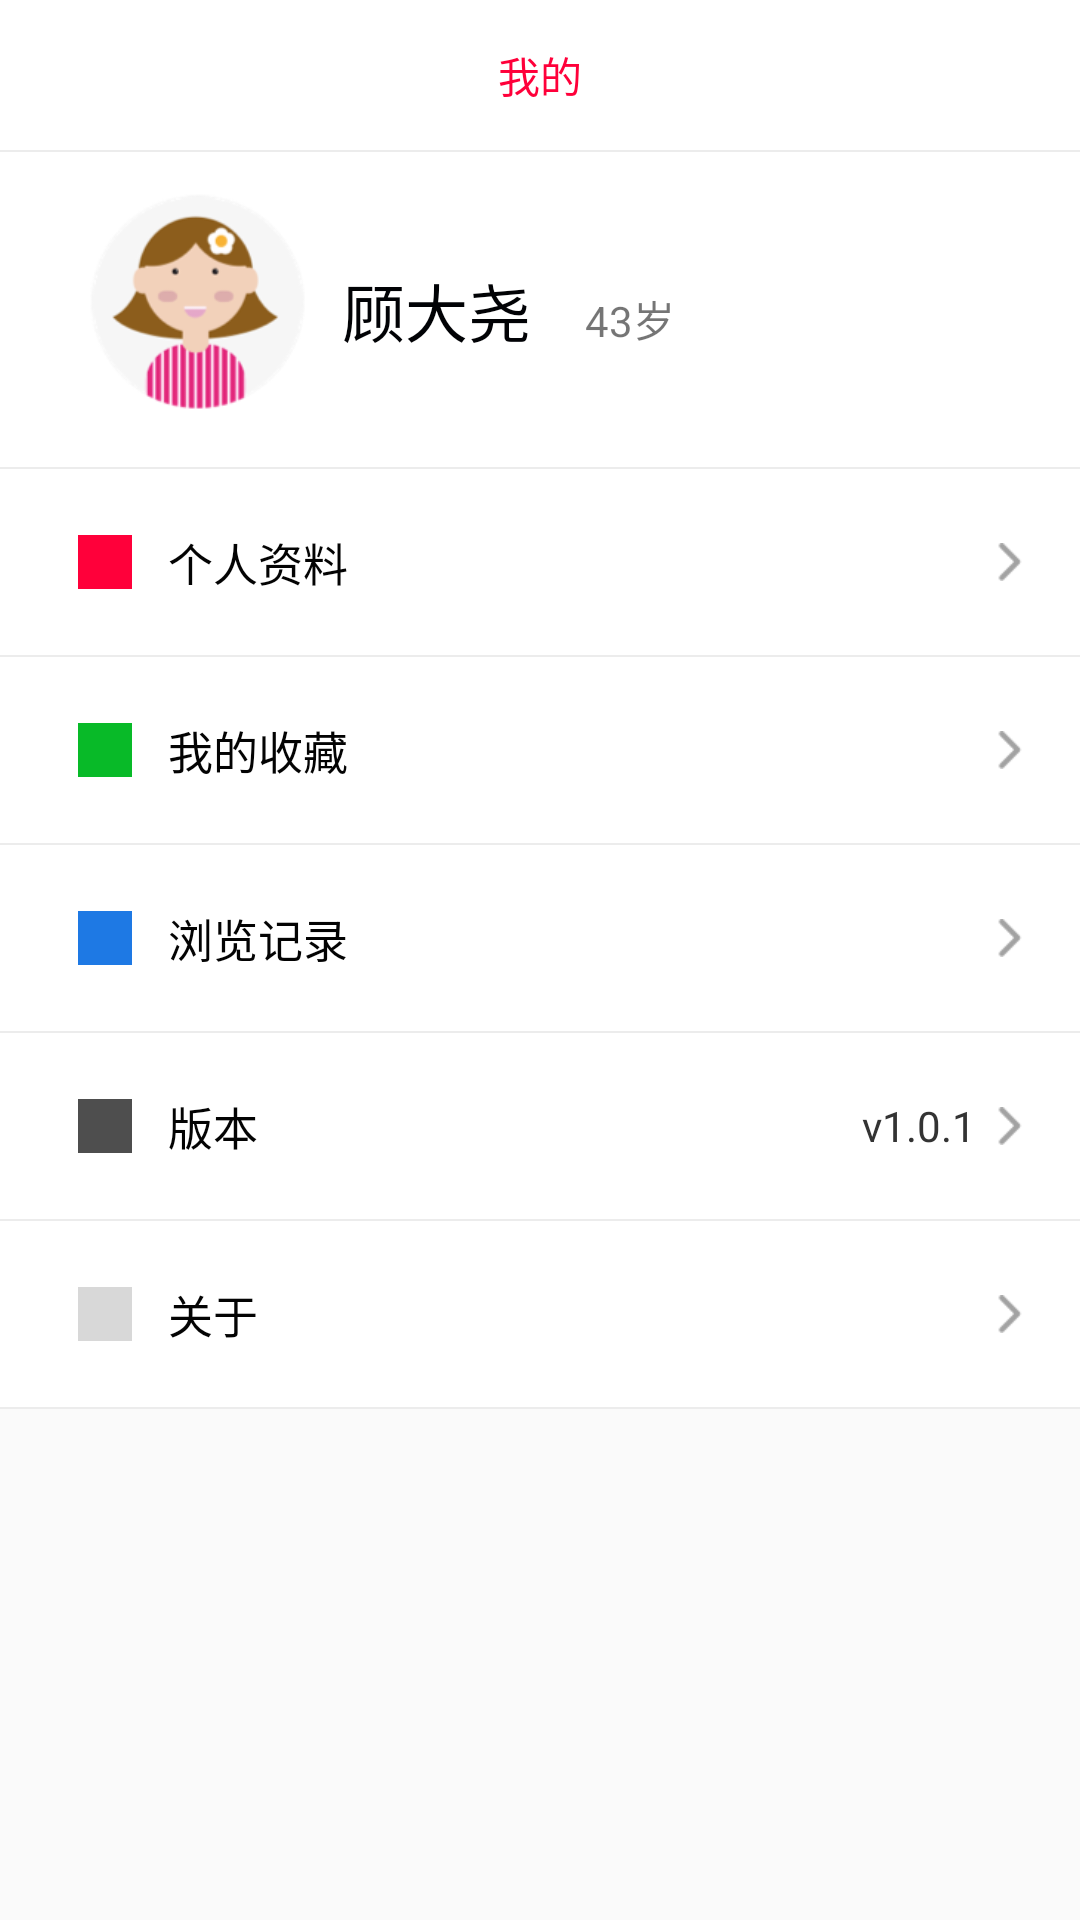

Where icons sit on this 1080x1920 app screen, as (x1, y1, x2, y2):
arrow right: (999, 543, 1021, 581), (999, 731, 1021, 769), (999, 919, 1021, 957), (999, 1107, 1021, 1145), (999, 1295, 1021, 1333)
female: (112, 216, 278, 409)
